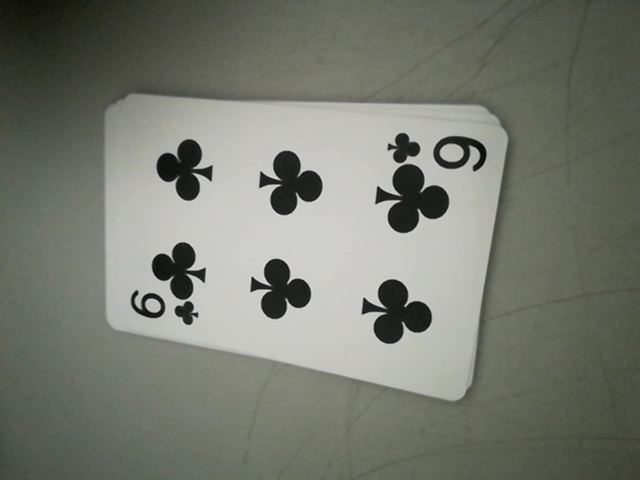mh 6: (387, 129, 492, 172), (123, 294, 200, 330)
